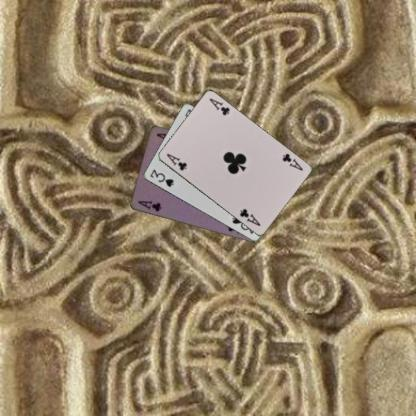3s: (148, 166, 174, 188)
Ac: (163, 150, 188, 172), (280, 150, 304, 172), (136, 197, 162, 213)
